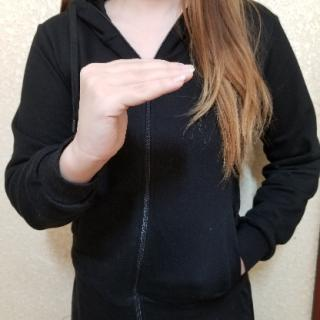HAA: (69, 50, 199, 178)
